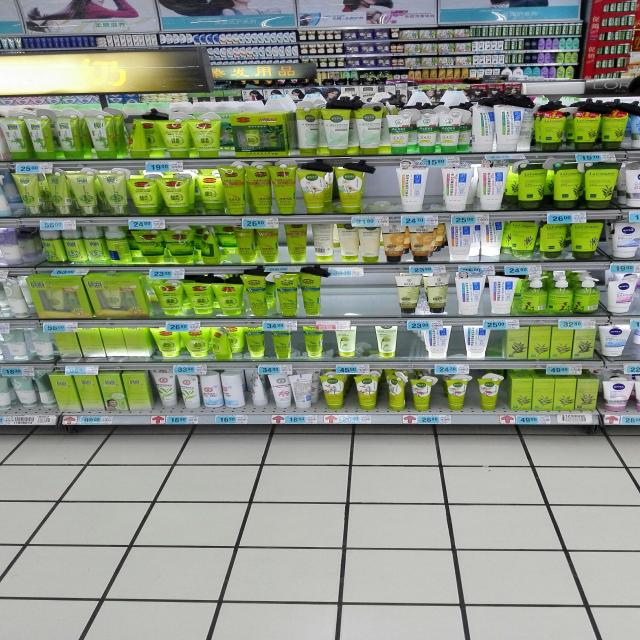void: (327, 270, 360, 328), (363, 270, 398, 323), (366, 164, 396, 224), (402, 326, 426, 370)
